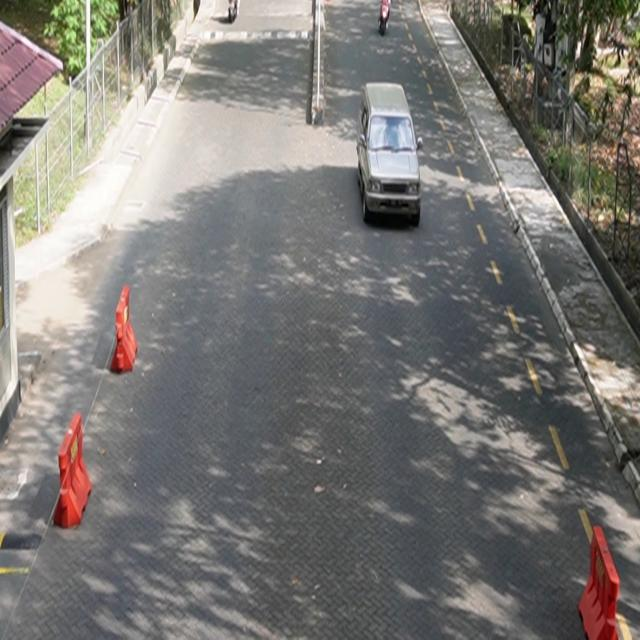car: (357, 82, 424, 228)
